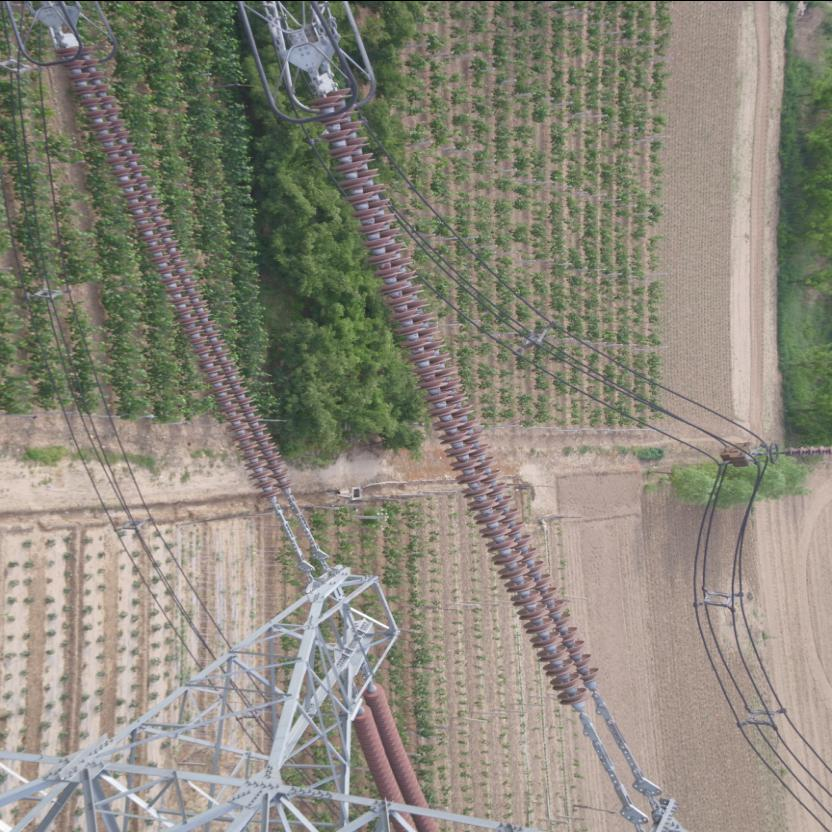insulator: (298, 52, 624, 748), (46, 14, 300, 540)
